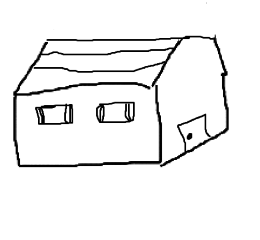door: (174, 111, 217, 158)
open_window: (93, 99, 141, 126), (33, 101, 75, 130)
roof: (12, 36, 227, 95)
wall: (9, 74, 164, 171)
